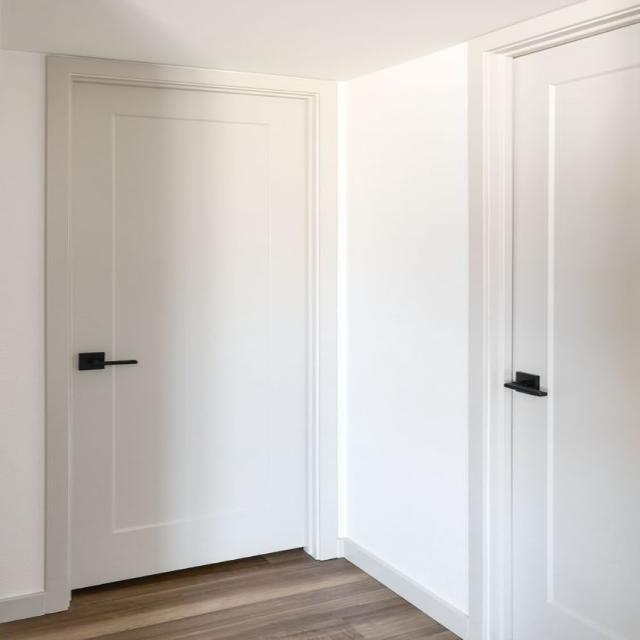door: (45, 54, 332, 596), (473, 3, 639, 639)
